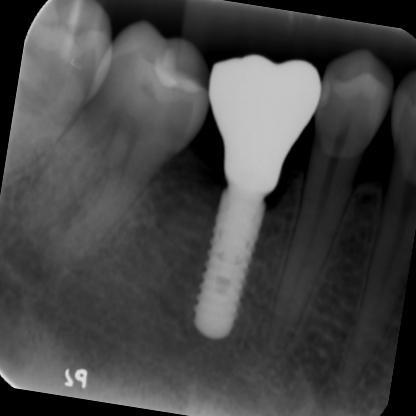ITI: (178, 176, 277, 350)
